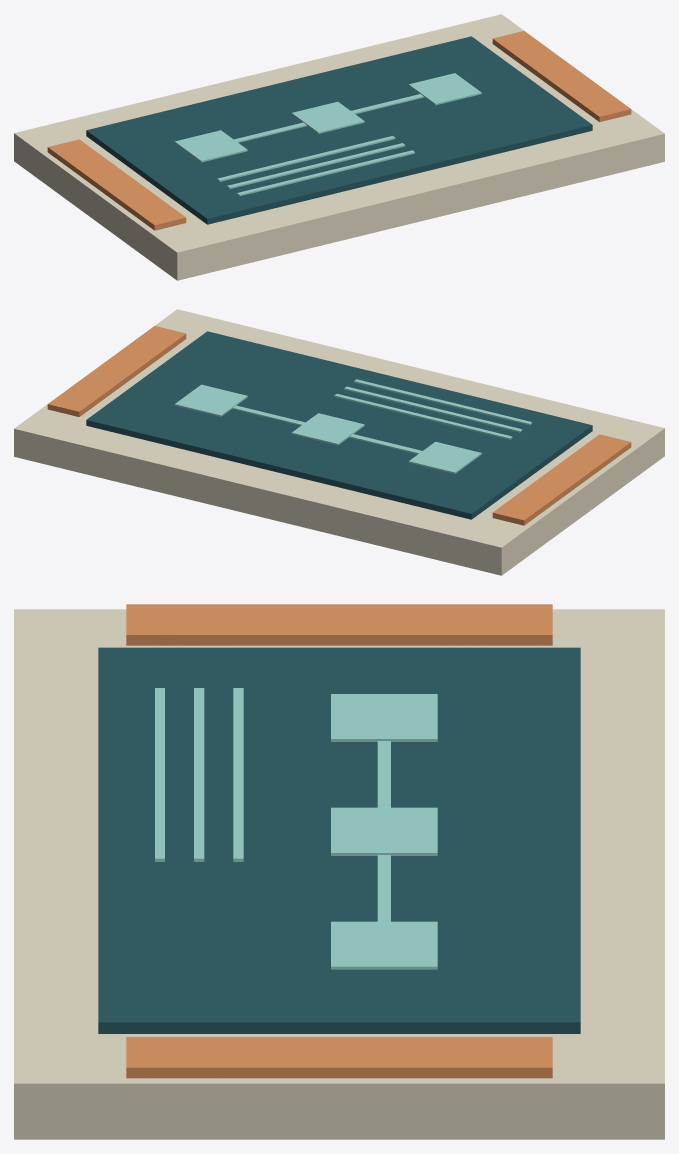
File: field-slate.glb
3 renders of one model, top to bottom at view 1: azimuth 30°, elevation 25°; view 2: azimuth 150°, elevation 25°; view 3: azimuth 270°, elevation 25°, orthographic. The views are drawn at different scales.
Visible parts, largest first — view 1: Screen, CeramicShell, Grip, Grip.001, SchematicNode, SchematicNode.002, SchematicNode.001, EngravedLine.001, EngravedLine, EngravedLine.002, SchematicLink; view 2: Screen, CeramicShell, Grip, Grip.001, SchematicNode, SchematicNode.002, SchematicNode.001, EngravedLine, EngravedLine.001, EngravedLine.002, SchematicLink; view 3: Screen, CeramicShell, Grip, Grip.001, SchematicNode.002, SchematicNode.001, SchematicNode, EngravedLine, EngravedLine.001, SchematicLink, EngravedLine.002.
Part boxes in pixels (left/top/right/bottom): Screen: left=86, top=36, right=592, bottom=224; CeramicShell: left=14, top=14, right=664, bottom=280; Grip: left=47, top=139, right=186, bottom=230; Grip.001: left=492, top=31, right=631, bottom=121; SchematicNode: left=174, top=130, right=247, bottom=162; SchematicNode.002: left=408, top=73, right=481, bottom=105; SchematicNode.001: left=291, top=101, right=364, bottom=133; EngravedLine.001: left=227, top=143, right=405, bottom=188; EngravedLine: left=217, top=136, right=395, bottom=181; EngravedLine.002: left=237, top=150, right=414, bottom=196; SchematicLink: left=234, top=94, right=424, bottom=142; Screen: left=86, top=331, right=592, bottom=519; CeramicShell: left=14, top=309, right=664, bottom=575; Grip: left=492, top=434, right=631, bottom=525; Grip.001: left=47, top=326, right=186, bottom=416; SchematicNode: left=408, top=441, right=481, bottom=473; SchematicNode.002: left=174, top=384, right=247, bottom=416; SchematicNode.001: left=291, top=413, right=364, bottom=445; EngravedLine: left=334, top=394, right=512, bottom=439; EngravedLine.001: left=344, top=386, right=522, bottom=432; EngravedLine.002: left=354, top=379, right=531, bottom=425; SchematicLink: left=232, top=405, right=422, bottom=454; Screen: left=98, top=647, right=580, bottom=1033; CeramicShell: left=14, top=609, right=664, bottom=1139; Grip: left=126, top=604, right=552, bottom=645; Grip.001: left=126, top=1037, right=552, bottom=1078; SchematicNode.002: left=331, top=921, right=437, bottom=969; SchematicNode.001: left=331, top=807, right=437, bottom=855; SchematicNode: left=331, top=694, right=437, bottom=741; EngravedLine: left=233, top=688, right=243, bottom=861; EngravedLine.001: left=194, top=688, right=204, bottom=861; SchematicLink: left=377, top=741, right=390, bottom=921; EngravedLine.002: left=155, top=688, right=164, bottom=861.
Size of the model in its own units: 1 by 0.071 by 0.58.
